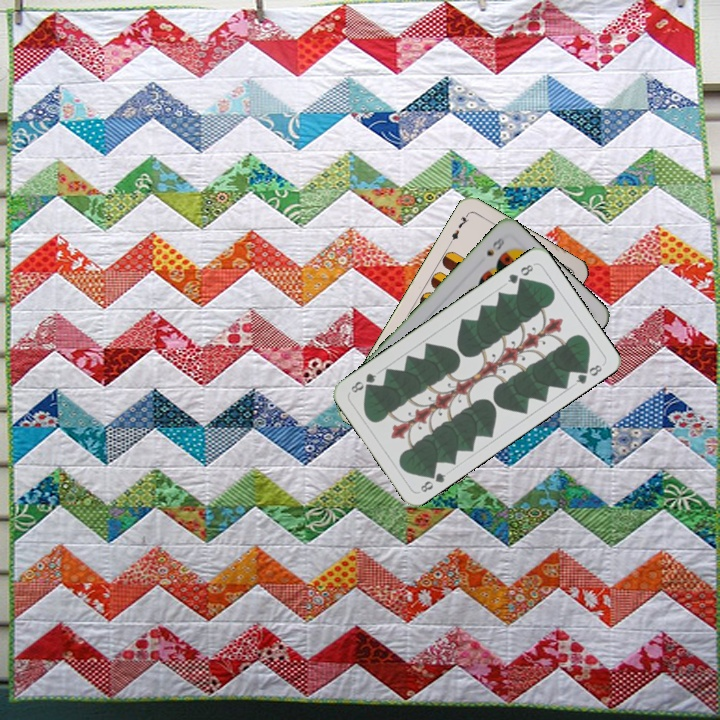E7: (445, 209, 471, 246)
G8: (416, 466, 448, 495), (503, 260, 536, 287)
S8: (482, 233, 507, 259)
